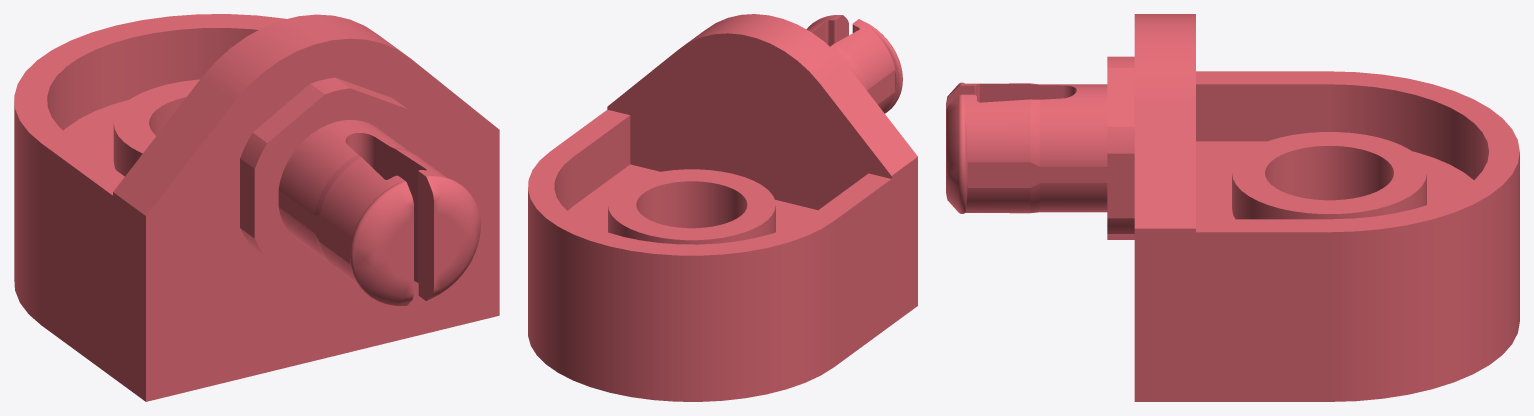
The picture shows the model from 3 angles, left to right: view 1: azimuth 30°, elevation 25°; view 2: azimuth 150°, elevation 25°; view 3: azimuth 270°, elevation 25°; orthographic projection. The views are drawn at different scales.
Parts seen in each view (by area): view 1: main_d22630; view 2: main_d22630; view 3: main_d22630.
Boxes of the visible parts, x1,y1,x2,y2 form: main_d22630: (14,14,499,401); main_d22630: (528,14,917,401); main_d22630: (946,14,1519,401).
Size of the model in its own units: 12.4 by 10.6 by 18.69.
